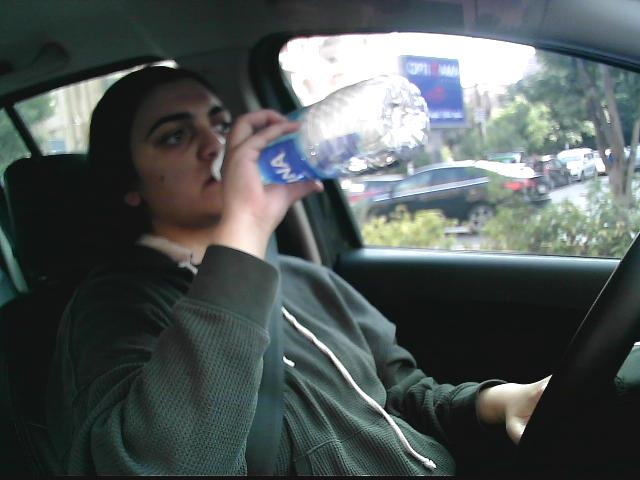Drinking: (208, 70, 428, 196)
